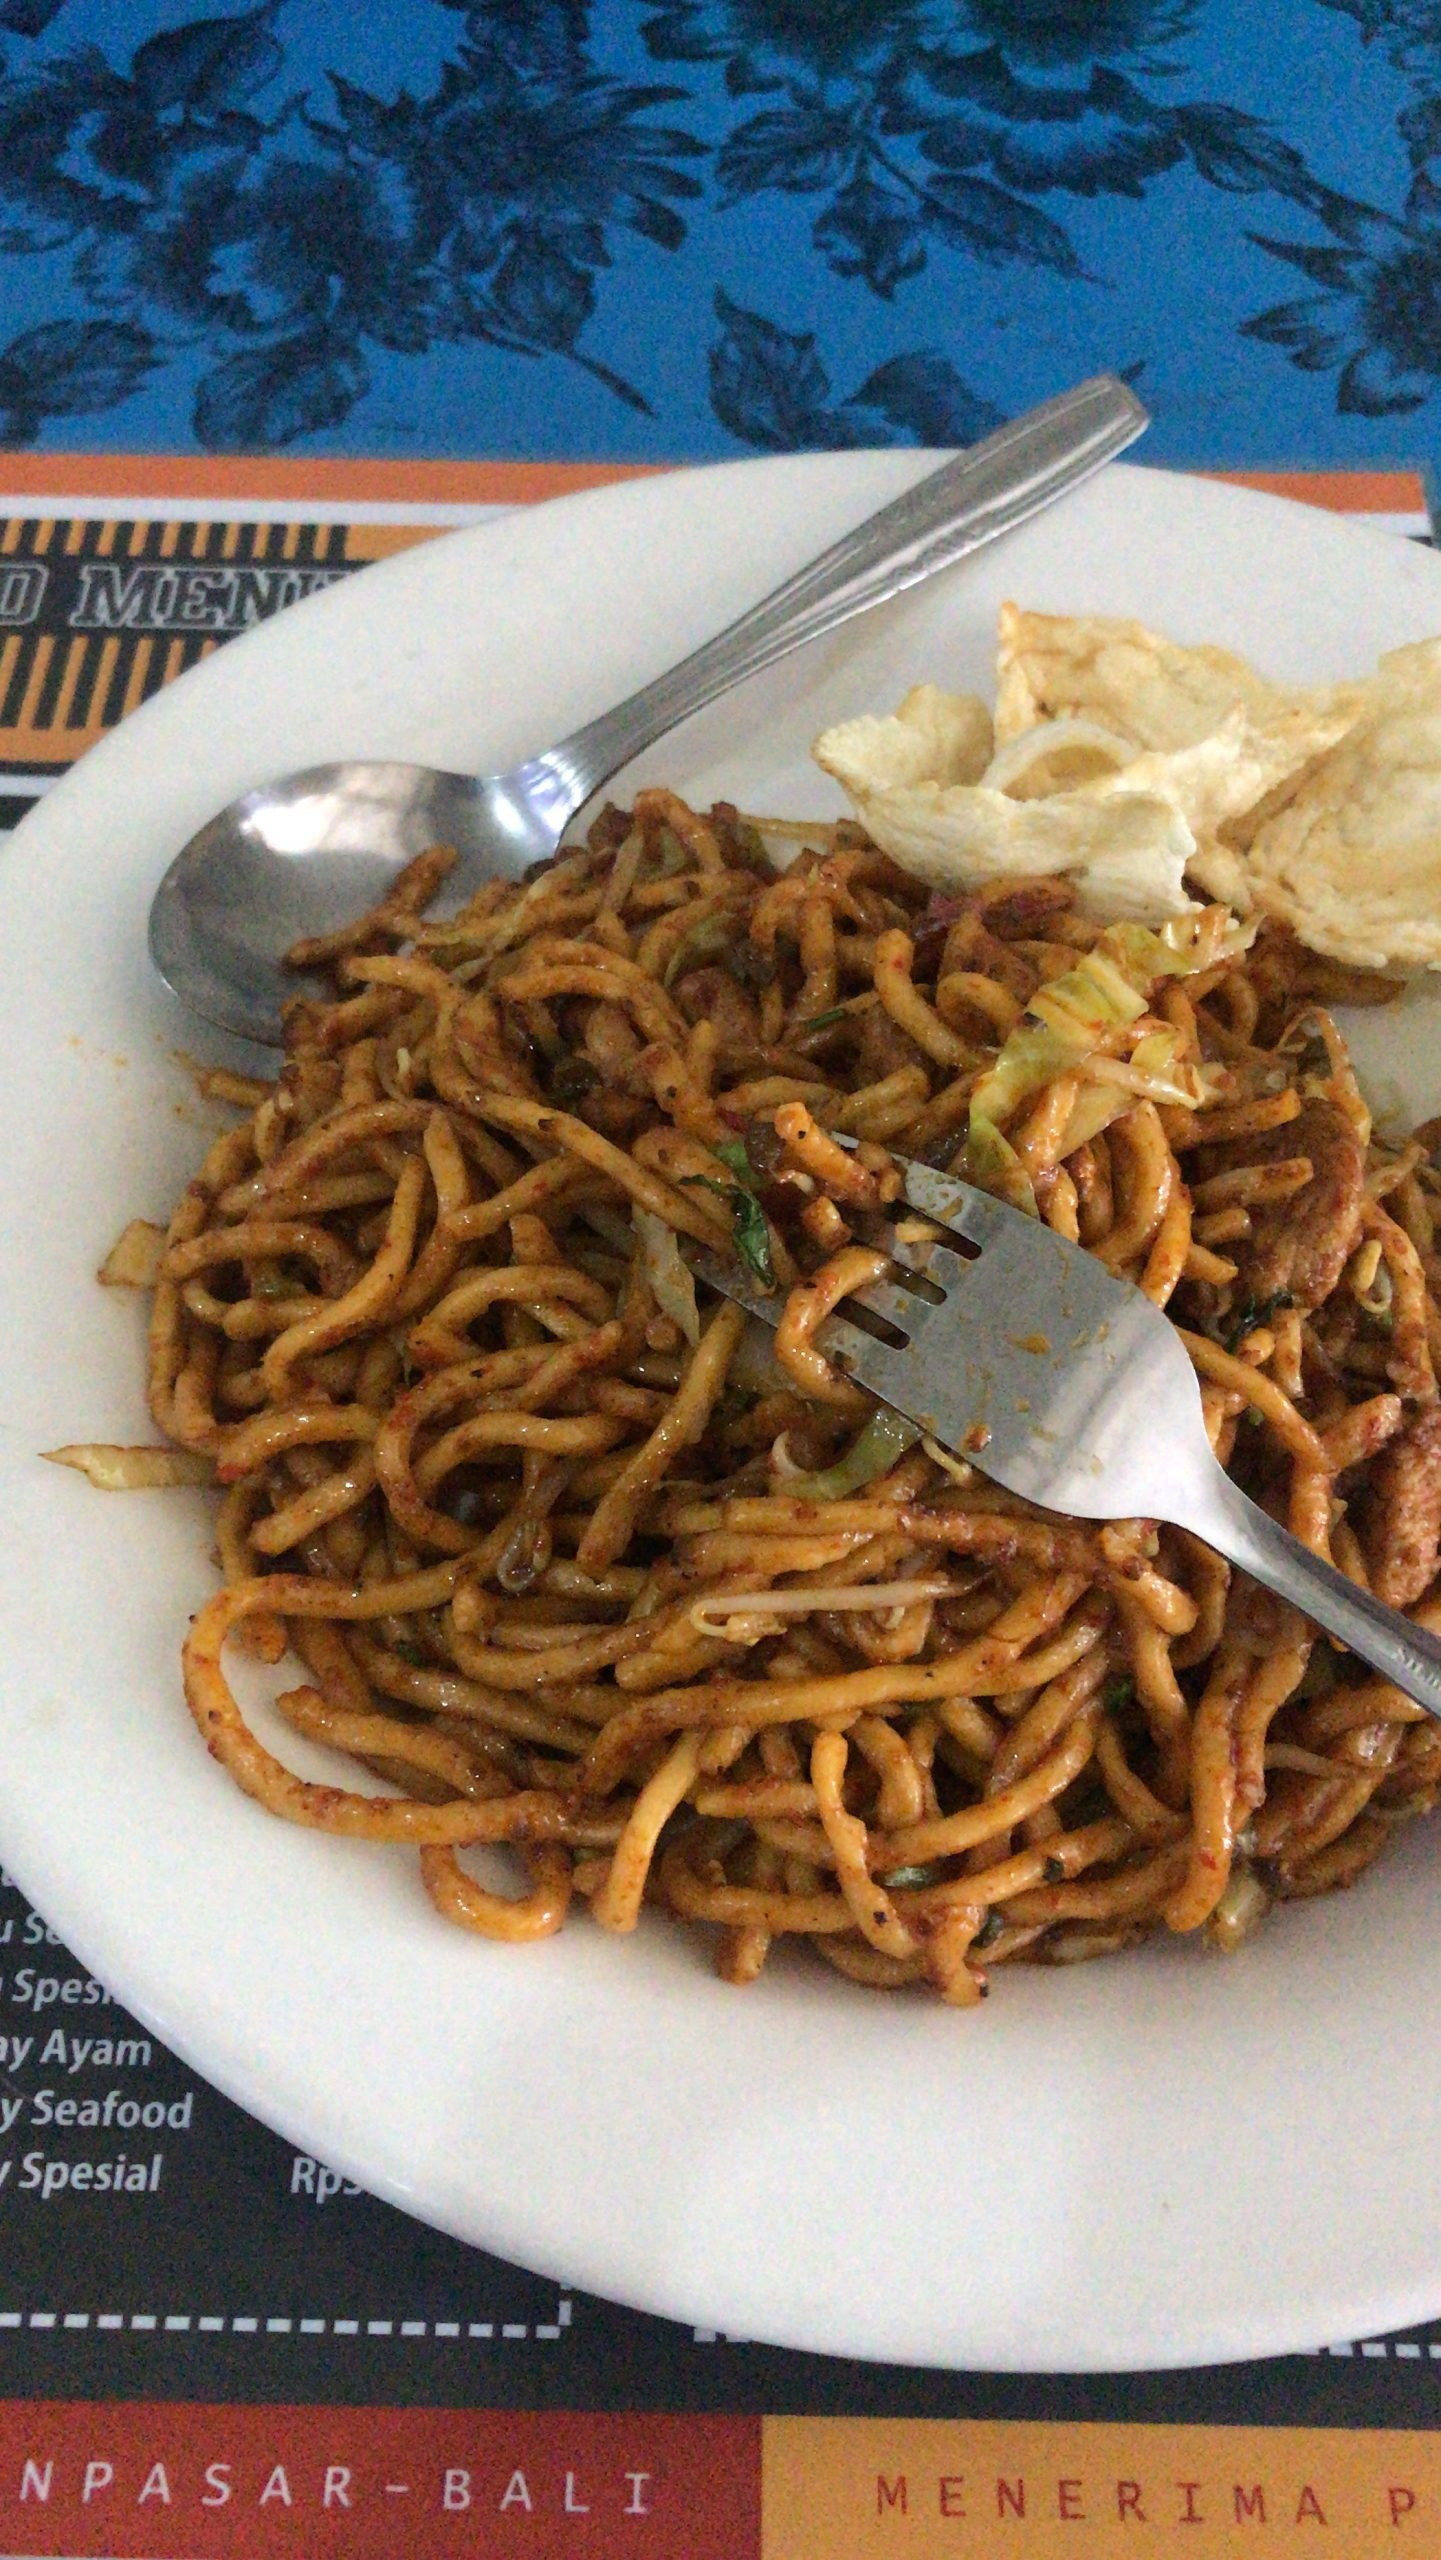mie_aceh: (127, 819, 1441, 2011)
